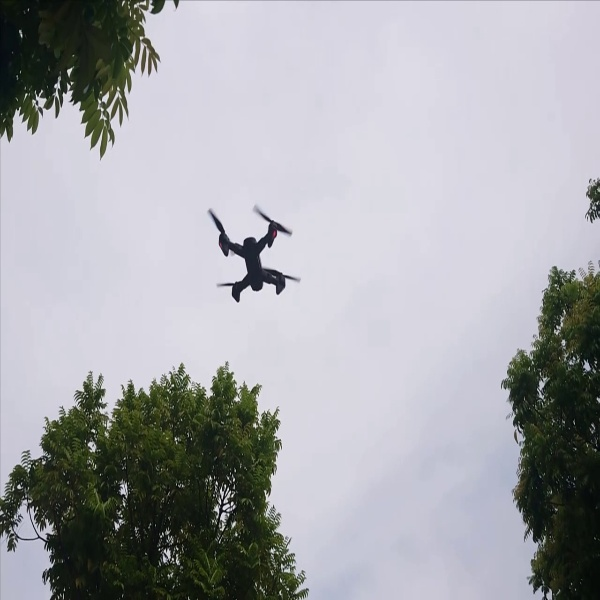drone: (194, 195, 302, 314)
